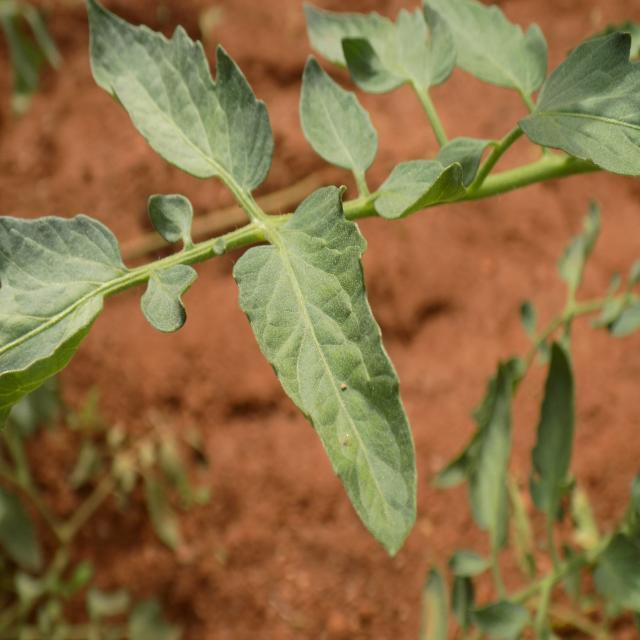tomato_healthy: (233, 189, 415, 556), (90, 2, 274, 197), (1, 214, 123, 394), (521, 31, 640, 173), (298, 56, 382, 176)
